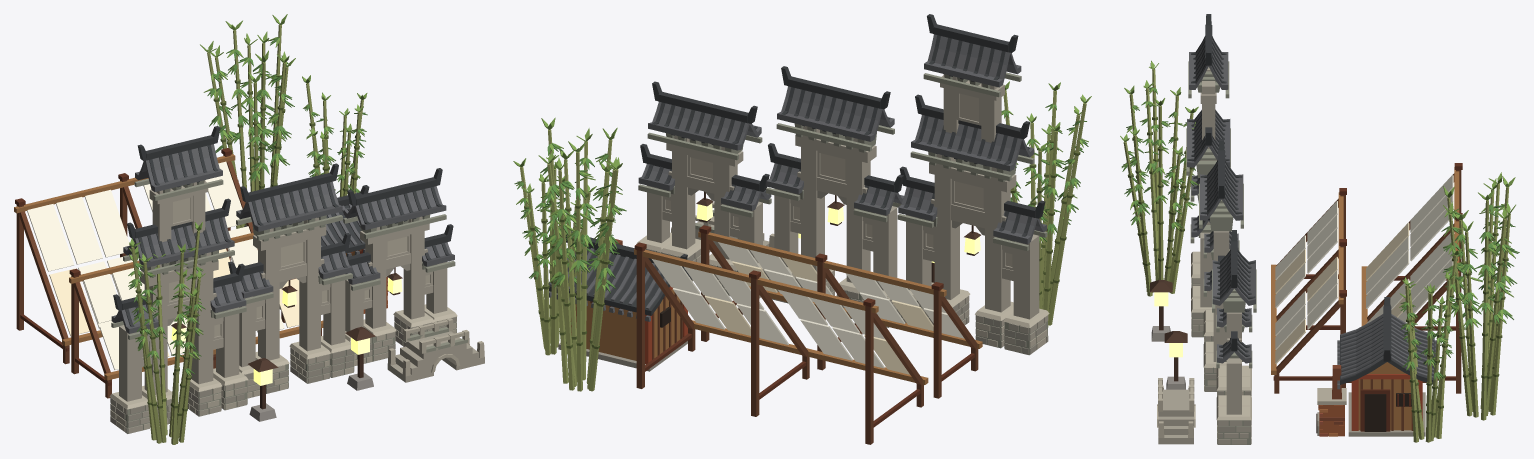
File: paper_village.glb
3 views of the same model, side by side, from view 1: azimuth 30°, elevation 25°; view 2: azimuth 150°, elevation 25°; view 3: azimuth 270°, elevation 25° (orthographic). The views are drawn at different scales.
Parts seen in each view (by area): view 1: paper_village_PV_GreyStone, paper_village_PV_StoneRoof, paper_village_PV_Paper, paper_village_PV_Culm, paper_village_PV_StoneRoofRib, paper_village_PV_GreyStoneShade, paper_village_PV_GreyStoneLight, paper_village_PV_Wood, paper_village_PV_LeafFresh, paper_village_PV_LeafFreshLight, paper_village_PV_GreyStoneTrim, paper_village_PV_GreyStoneMid (+9 smaller); view 2: paper_village_PV_GreyStone, paper_village_PV_StoneRoof, paper_village_PV_Culm, paper_village_PV_StoneRoofRib, paper_village_PV_Paper, paper_village_PV_Wood, paper_village_PV_WoodLight, paper_village_PV_GreyStoneShade, paper_village_PV_LeafFresh, paper_village_PV_LeafFreshLight, paper_village_PV_GreyStoneLight, paper_village_PV_PaperWarm (+7 smaller); view 3: paper_village_PV_Culm, paper_village_PV_Paper, paper_village_PV_GreyStone, paper_village_PV_StoneRoof, paper_village_PV_StoneRoofRib, paper_village_PV_LeafFresh, paper_village_PV_LeafFreshLight, paper_village_PV_Wood, paper_village_PV_GreyStoneShade, paper_village_PV_WoodLight, paper_village_PV_RoofCharcoalEdge, paper_village_PV_GreyStoneTrim (+14 smaller).
Boxes of the visible parts, x1,y1,x2,y2 form: paper_village_PV_GreyStone: (110,180,484,433); paper_village_PV_StoneRoof: (111,144,454,333); paper_village_PV_Paper: (27,161,284,369); paper_village_PV_Culm: (131,24,363,444); paper_village_PV_StoneRoofRib: (113,126,453,327); paper_village_PV_GreyStoneShade: (110,178,467,433); paper_village_PV_GreyStoneLight: (110,198,484,431); paper_village_PV_Wood: (16,154,361,398); paper_village_PV_LeafFresh: (128,37,367,376); paper_village_PV_LeafFreshLight: (129,14,367,377); paper_village_PV_GreyStoneTrim: (109,304,457,409); paper_village_PV_GreyStoneMid: (110,264,456,433); paper_village_PV_GreyStone: (647,74,1048,352); paper_village_PV_StoneRoof: (638,34,1046,244); paper_village_PV_Culm: (520,90,1086,391); paper_village_PV_StoneRoofRib: (640,14,1045,236); paper_village_PV_Paper: (652,242,964,368); paper_village_PV_Wood: (590,232,978,444); paper_village_PV_WoodLight: (570,232,982,384); paper_village_PV_GreyStoneShade: (638,72,1047,355); paper_village_PV_LeafFresh: (514,103,1088,293); paper_village_PV_LeafFreshLight: (513,81,1091,292); paper_village_PV_GreyStoneLight: (656,93,1047,349); paper_village_PV_PaperWarm: (704,257,933,374); paper_village_PV_Culm: (1123,69,1510,442); paper_village_PV_Paper: (1275,175,1453,349); paper_village_PV_GreyStone: (1158,67,1251,444); paper_village_PV_StoneRoof: (1187,36,1255,363); paper_village_PV_StoneRoofRib: (1187,14,1255,356); paper_village_PV_LeafFresh: (1121,87,1519,381); paper_village_PV_LeafFreshLight: (1120,60,1515,379); paper_village_PV_Wood: (1274,170,1461,430); paper_village_PV_GreyStoneShade: (1186,61,1256,444); paper_village_PV_WoodLight: (1271,167,1459,430); paper_village_PV_RoofCharcoalEdge: (1337,314,1436,389); paper_village_PV_GreyStoneTrim: (1191,251,1251,420).
Size of the model in its own units: 4.42 by 3.09 by 4.05.
